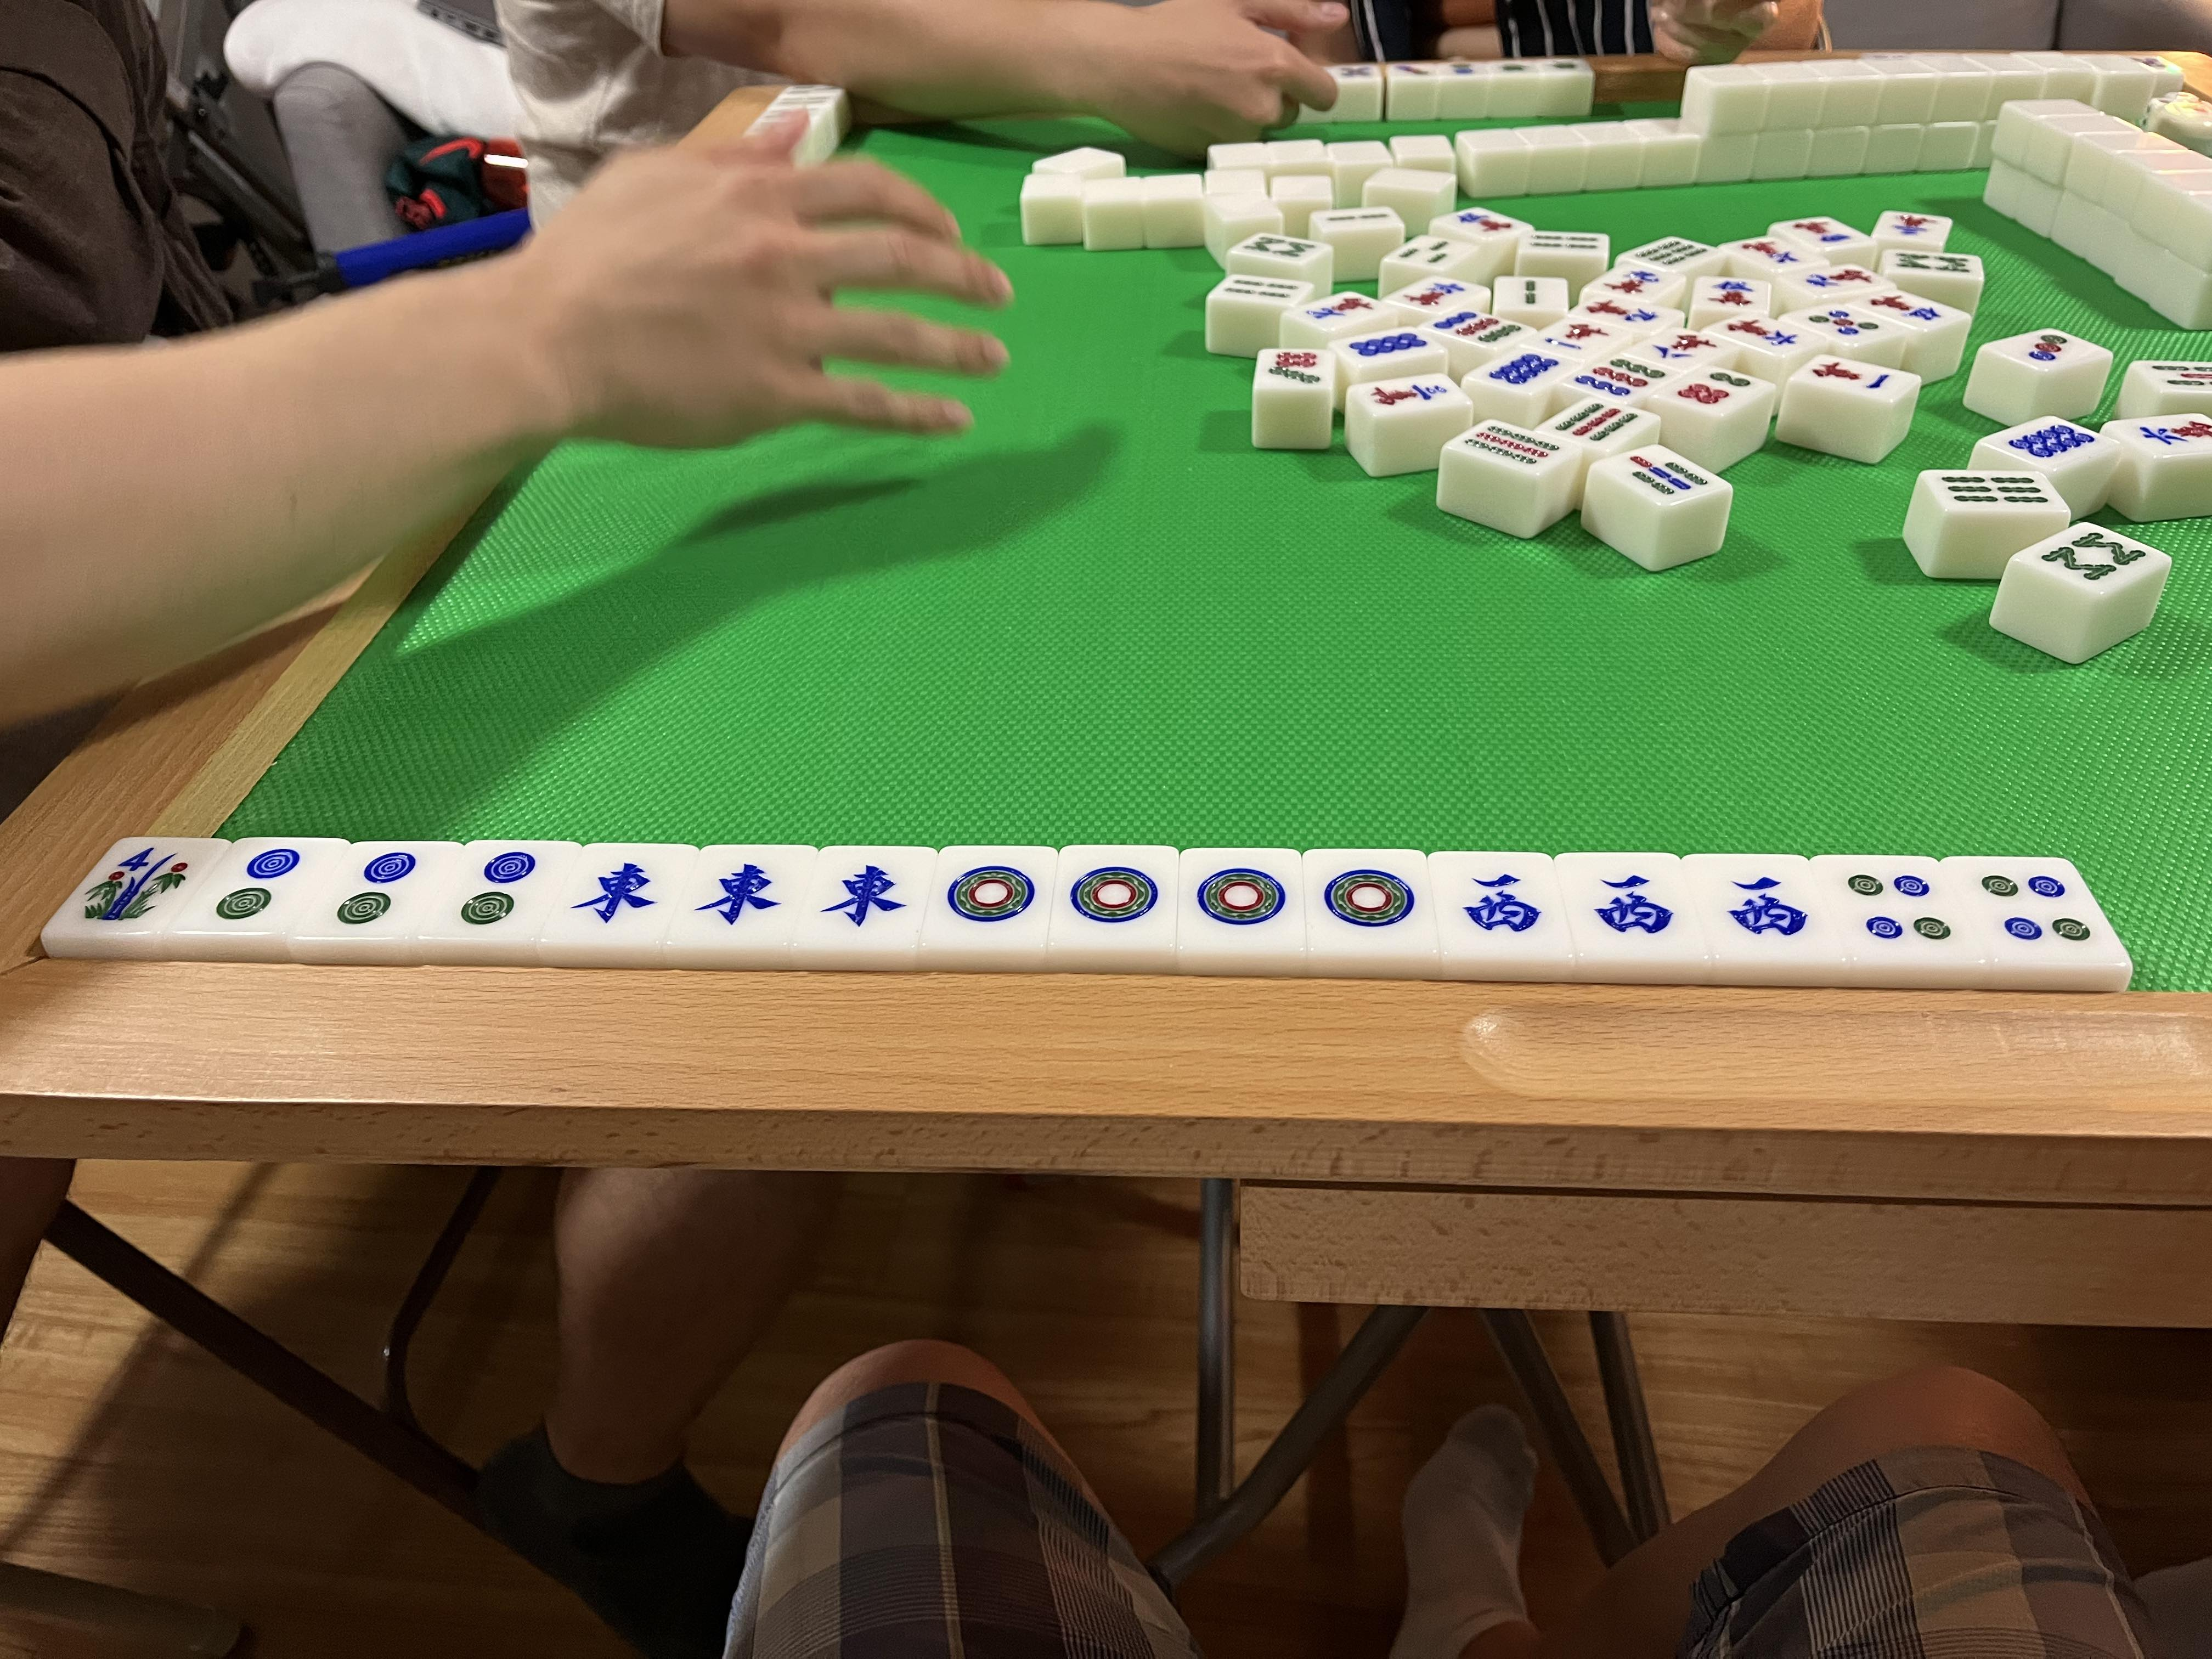circle-four: (1972, 859, 2095, 957), (1836, 861, 1954, 953)
circle-one: (939, 845, 1043, 945), (1310, 854, 1421, 945), (1059, 847, 1170, 932), (1191, 856, 1292, 939)
circle-two: (216, 835, 305, 932), (455, 843, 542, 934), (333, 843, 420, 931)
flower-blue_four: (80, 836, 192, 939)
honor-east_wind: (570, 847, 658, 934), (815, 852, 911, 932), (693, 856, 787, 932)
honor-west_wind: (1581, 861, 1688, 946), (1712, 861, 1818, 945), (1449, 861, 1550, 945)
